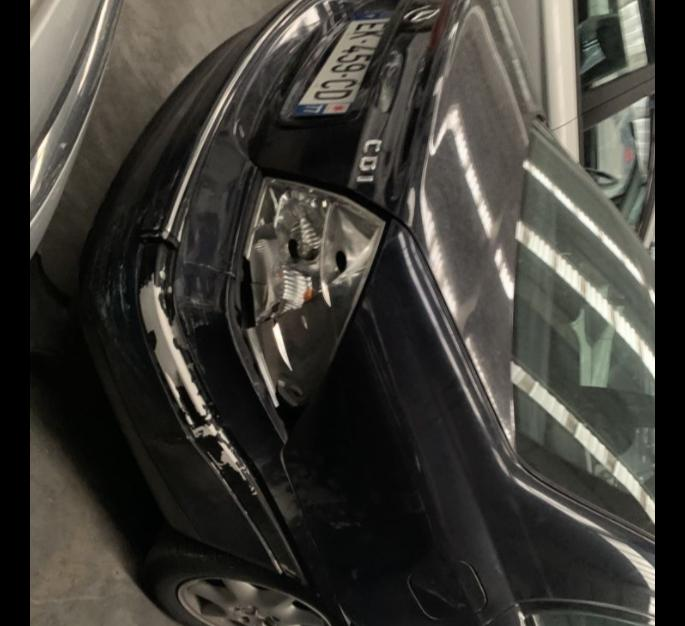Broken part: (154, 232, 316, 588), (222, 168, 382, 444)
Corrosion: (266, 480, 302, 522), (252, 460, 262, 475)
Dent: (180, 134, 258, 386)
Flaking: (130, 156, 196, 352), (138, 270, 212, 427), (206, 440, 246, 480), (208, 460, 236, 498), (190, 422, 230, 444), (182, 260, 236, 276), (278, 562, 296, 574), (152, 209, 162, 228), (156, 264, 166, 280), (272, 558, 282, 574), (232, 116, 240, 134), (238, 124, 245, 138), (184, 432, 196, 440), (140, 232, 158, 236), (248, 484, 256, 492), (242, 468, 248, 472), (252, 491, 256, 494)
Scratch: (360, 296, 404, 402), (93, 260, 132, 322), (173, 278, 198, 334), (416, 582, 466, 606), (189, 276, 206, 328), (414, 452, 422, 472)
